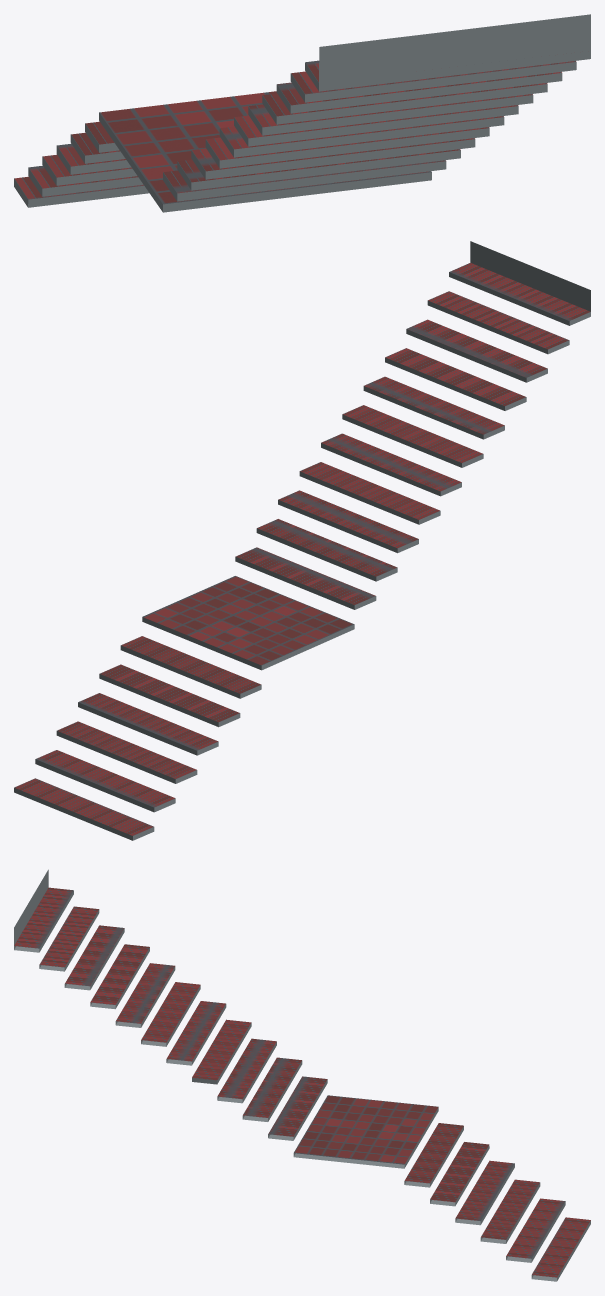
File: escaleras_pasillo_3.glb
The picture shows the model from 3 angles, top to bottom: view 1: azimuth 30°, elevation 25°; view 2: azimuth 150°, elevation 25°; view 3: azimuth 270°, elevation 25°; orthographic projection. The views are drawn at different scales.
Parts seen in each view (by area): view 1: escalon.006; view 2: escalon.006; view 3: escalon.006.
Part boxes in pixels (x1,y1,x2,y2): escalon.006: (14,14,590,212); escalon.006: (14,241,590,840); escalon.006: (14,869,590,1281).
Size of the model in its own units: 15.43 by 18.63 by 32.73.
2 materials, 1 textured.
